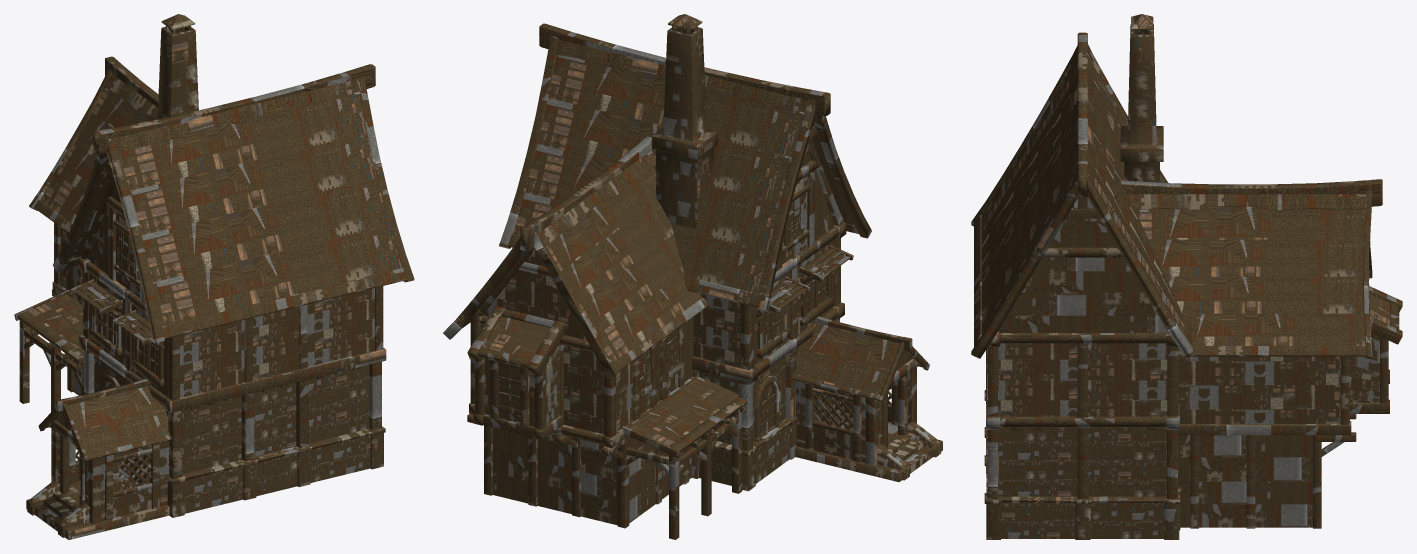
The model's file is house 5.fbx.
The picture shows the model from 3 angles, left to right: view 1: azimuth 30°, elevation 25°; view 2: azimuth 150°, elevation 25°; view 3: azimuth 270°, elevation 25°; orthographic projection. The views are drawn at different scales.
Visible parts, largest first — view 1: Cube.013_blinn1_0, Cube_blinn1_0, Cube.018_blinn1_0, Cube.111_blinn1_0, Cube.154_blinn1_0, Cube.219_blinn1_0, Cube.113_blinn1_0, Cube.271_blinn1_0, Cube.105_blinn1_0, Cube.076_blinn1_0, Cube.215_blinn1_0, Cube.182_blinn1_0 (+39 smaller); view 2: Cube.112_blinn1_0, Cube.118_blinn1_0, Cube.154_blinn1_0, Cube_blinn1_0, Cube.271_blinn1_0, Cube.222_blinn1_0, Cube.110_blinn1_0, Cube.182_blinn1_0, pasted__Cube.219_blinn1_0, Cube.105_blinn1_0, Cube.215_blinn1_0, Cube.224_blinn1_0 (+42 smaller); view 3: Cube_blinn1_0, Cube.015_blinn1_0, Cube.118_blinn1_0, Cube.013_blinn1_0, Cube.112_blinn1_0, Cube.271_blinn1_0, Cube.014_blinn1_0, Cube.224_blinn1_0, Cube.111_blinn1_0, Cube.110_blinn1_0, Cube.089_blinn1_0, Cube.043_blinn1_0 (+25 smaller).
Part boxes in pixels (x1,y1,x2,y2): Cube.013_blinn1_0: (119, 94, 401, 326); Cube_blinn1_0: (87, 185, 374, 513); Cube.018_blinn1_0: (67, 385, 169, 454); Cube.111_blinn1_0: (107, 76, 414, 343); Cube.154_blinn1_0: (40, 88, 154, 223); Cube.219_blinn1_0: (115, 79, 360, 152); Cube.113_blinn1_0: (162, 268, 406, 338); Cube.271_blinn1_0: (157, 26, 198, 119); Cube.105_blinn1_0: (93, 64, 375, 153); Cube.076_blinn1_0: (163, 348, 386, 413); Cube.215_blinn1_0: (56, 412, 168, 520); Cube.182_blinn1_0: (27, 294, 83, 353); Cube.112_blinn1_0: (512, 54, 803, 294); Cube.118_blinn1_0: (480, 249, 693, 525); Cube.154_blinn1_0: (546, 167, 702, 362); Cube_blinn1_0: (693, 147, 834, 485); Cube.271_blinn1_0: (652, 26, 718, 228); Cube.222_blinn1_0: (794, 322, 900, 394); Cube.110_blinn1_0: (499, 35, 815, 311); Cube.182_blinn1_0: (628, 376, 738, 446); pasted__Cube.219_blinn1_0: (555, 39, 807, 114); Cube.105_blinn1_0: (539, 23, 830, 116); Cube.215_blinn1_0: (795, 350, 911, 462); Cube.224_blinn1_0: (520, 136, 652, 251); Cube_blinn1_0: (998, 197, 1167, 538); Cube.015_blinn1_0: (1139, 201, 1365, 345); Cube.118_blinn1_0: (1178, 356, 1340, 527); Cube.013_blinn1_0: (981, 68, 1072, 334); Cube.112_blinn1_0: (1093, 67, 1183, 333); Cube.271_blinn1_0: (1120, 24, 1163, 182); Cube.014_blinn1_0: (1128, 194, 1365, 210); Cube.224_blinn1_0: (1121, 179, 1382, 206); Cube.111_blinn1_0: (971, 45, 1077, 358); Cube.110_blinn1_0: (1087, 44, 1194, 358); Cube.089_blinn1_0: (1178, 421, 1351, 435); Cube.043_blinn1_0: (1000, 416, 1165, 427).
Size of the model in its own units: 1070 by 1260 by 1077.
